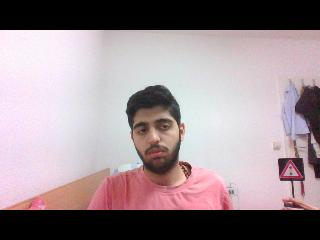traffic_light: (279, 159, 305, 181)
